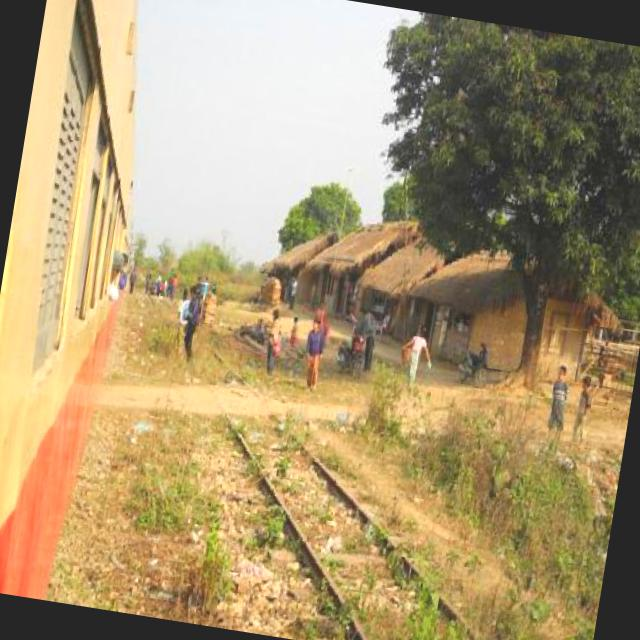Person: (101, 244, 341, 356), (395, 322, 439, 391), (544, 361, 574, 441), (298, 318, 329, 392), (178, 284, 204, 364), (570, 372, 596, 448), (259, 308, 284, 380), (170, 288, 193, 357), (359, 310, 380, 374), (352, 306, 370, 338), (314, 299, 328, 338), (286, 276, 299, 312), (288, 314, 300, 350), (193, 275, 206, 299)
